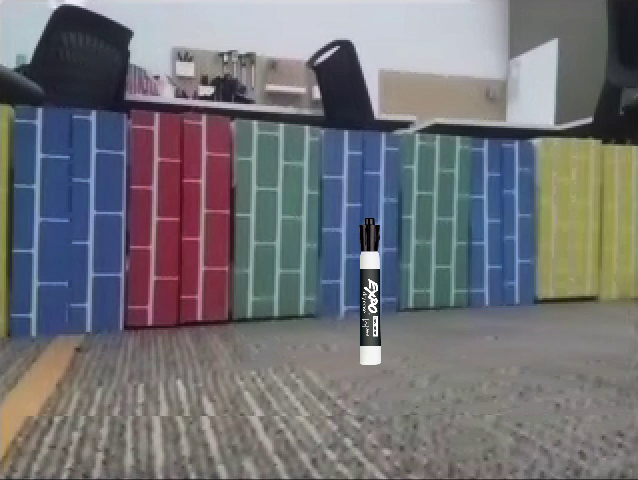bottle: (18, 281, 69, 465)
